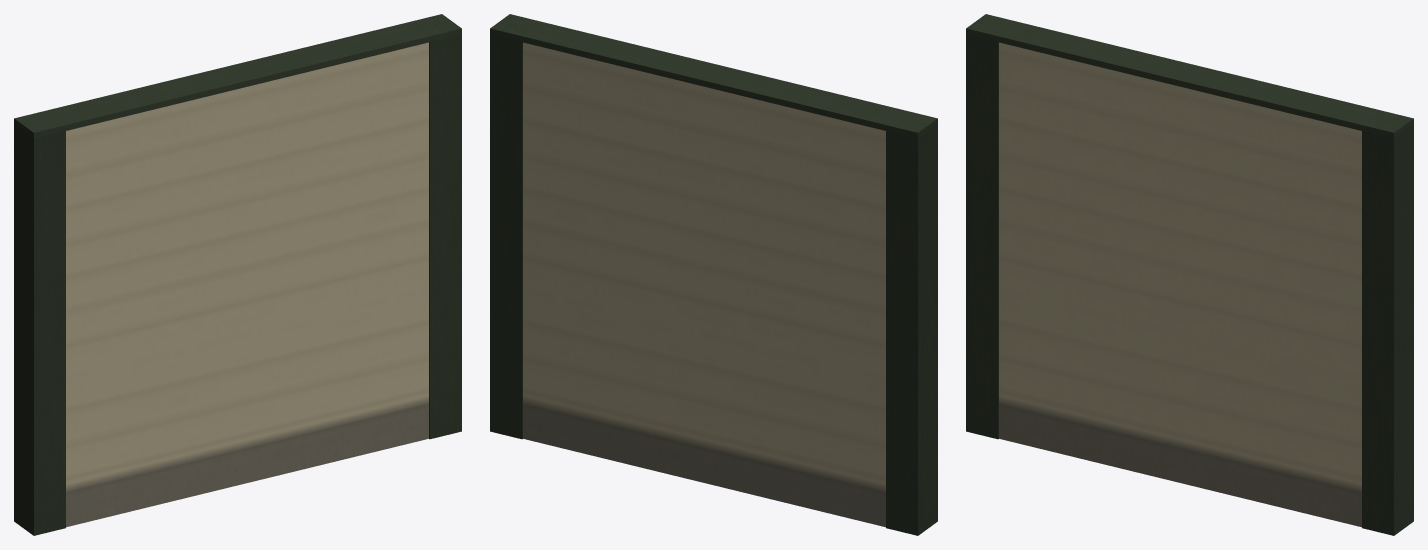
The model's file is house_01_wall_solid.glb.
3 views of the same model, side by side, from view 1: azimuth 30°, elevation 25°; view 2: azimuth 150°, elevation 25°; view 3: azimuth 330°, elevation 25° (orthographic).
Visible parts, largest first — view 1: outdoor_house_01_wall_solid; view 2: outdoor_house_01_wall_solid; view 3: outdoor_house_01_wall_solid.
Boxes of the visible parts, x1=… form: outdoor_house_01_wall_solid: x1=14, y1=14, x2=461, y2=535; outdoor_house_01_wall_solid: x1=490, y1=14, x2=937, y2=535; outdoor_house_01_wall_solid: x1=966, y1=14, x2=1413, y2=535.
Bounding box in the file's own units: 3 × 2.7 × 0.24.
Materials: 1 (1 with a texture image).
